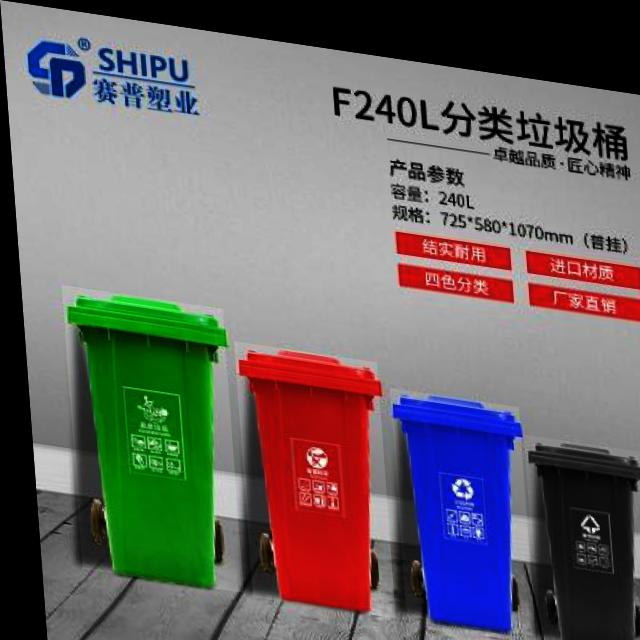garbage_bin: (57, 284, 235, 586), (229, 335, 387, 607), (385, 377, 527, 621), (518, 419, 640, 636)
